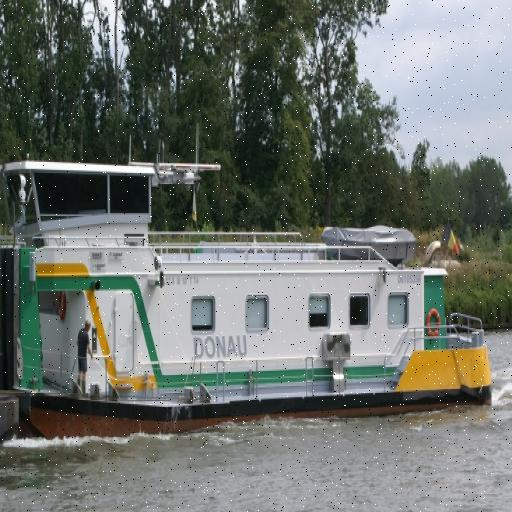tugboat: (1, 119, 499, 455)
